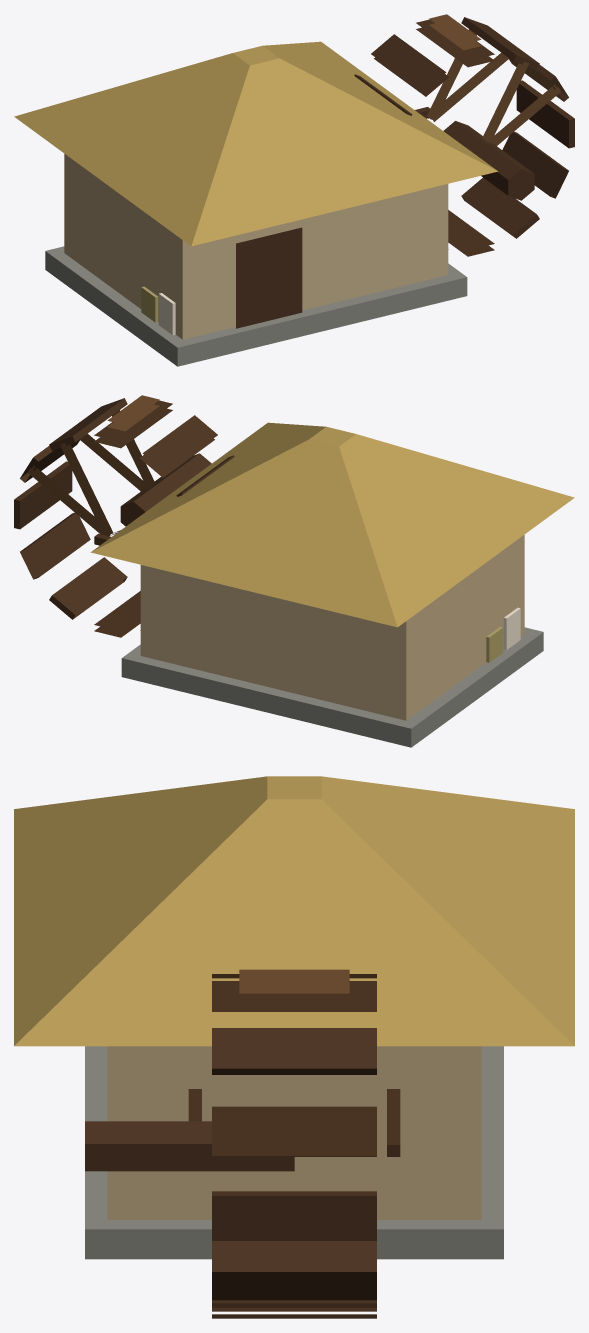
The model's file is prop_mill_lod1.glb.
3 views of the same model, one above another, from view 1: azimuth 30°, elevation 25°; view 2: azimuth 150°, elevation 25°; view 3: azimuth 270°, elevation 25° (orthographic). The views are drawn at different scales.
Visible parts, largest first — view 1: prop_mill_lod1; view 2: prop_mill_lod1; view 3: prop_mill_lod1.
Boxes of the visible parts, x1,y1,x2,y2 form: prop_mill_lod1: (14, 14, 574, 366); prop_mill_lod1: (14, 395, 574, 747); prop_mill_lod1: (14, 776, 574, 1318).
Size of the model in its own units: 7.4 by 3.6 by 5.09.
